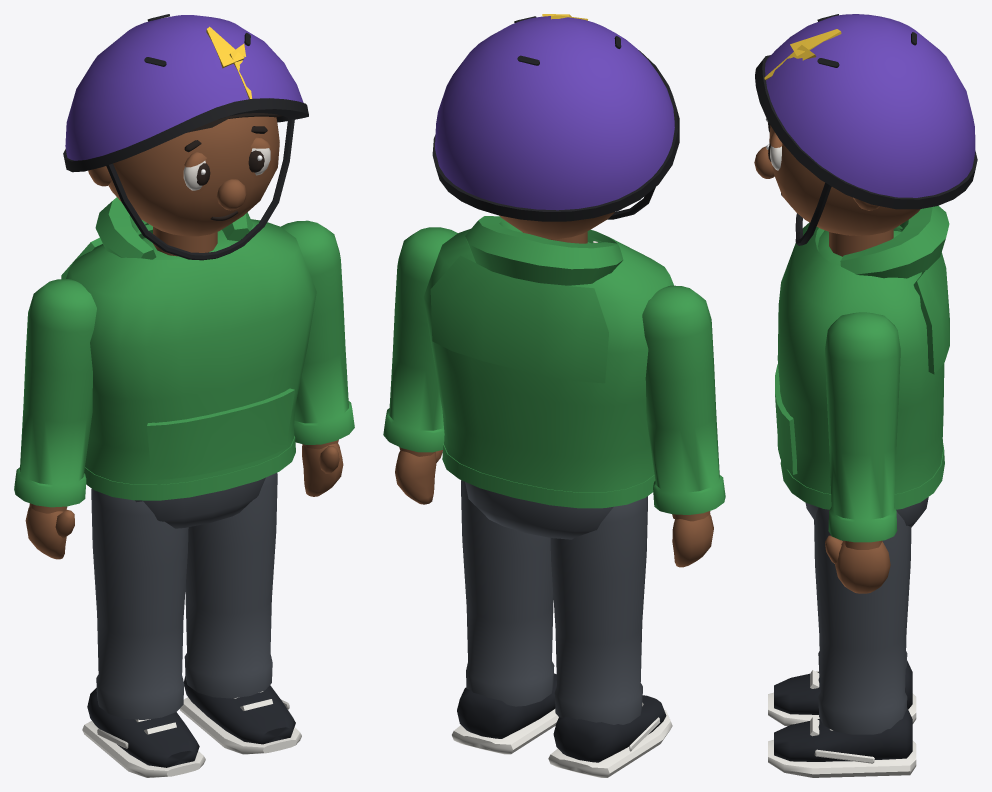
The model's file is Character_Regular_jo.fbx.
The picture shows the model from 3 angles, left to right: view 1: azimuth 30°, elevation 25°; view 2: azimuth 150°, elevation 25°; view 3: azimuth 270°, elevation 25°; orthographic projection.
Visible parts, largest first — view 1: Hoodie, Helmet, LegR, LegL, ArmR, Head, ArmL, HelmetTrim, LegR_Shoe, LegL_Shoe, Hips, HandR (+5 smaller); view 2: Hoodie, Helmet, LegR, LegL, ArmR, ArmL, HelmetTrim, Hips, LegR_Shoe, LegL_Shoe, LegR_Sole, HandL (+3 smaller); view 3: Hoodie, Helmet, ArmL, LegL, Head, HelmetTrim, LegL_Shoe, HandL, LegL_Sole, LegR_Shoe, LegR_Sole, Sticker (+3 smaller).
Boxes of the visible parts, x1=… form: Hoodie: x1=61, y1=197, x2=316, y2=500; Helmet: x1=65, y1=15, x2=303, y2=160; LegR: x1=91, y1=489, x2=188, y2=719; LegL: x1=184, y1=473, x2=277, y2=698; ArmR: x1=14, y1=279, x2=96, y2=507; Head: x1=88, y1=116, x2=279, y2=256; ArmL: x1=280, y1=220, x2=354, y2=444; HelmetTrim: x1=63, y1=14, x2=308, y2=260; LegR_Shoe: x1=87, y1=688, x2=199, y2=767; LegL_Shoe: x1=184, y1=676, x2=295, y2=744; Hips: x1=135, y1=477, x2=265, y2=528; HandR: x1=25, y1=503, x2=74, y2=559; Hoodie: x1=423, y1=216, x2=673, y2=508; Helmet: x1=435, y1=16, x2=674, y2=210; LegR: x1=550, y1=496, x2=647, y2=724; LegL: x1=461, y1=480, x2=554, y2=706; ArmR: x1=642, y1=285, x2=725, y2=514; ArmL: x1=383, y1=227, x2=457, y2=452; HelmetTrim: x1=432, y1=16, x2=679, y2=221; Hips: x1=465, y1=482, x2=613, y2=539; LegR_Shoe: x1=553, y1=695, x2=666, y2=762; LegL_Shoe: x1=457, y1=673, x2=556, y2=738; LegR_Sole: x1=548, y1=702, x2=672, y2=777; HandL: x1=395, y1=447, x2=442, y2=504; Hoodie: x1=775, y1=205, x2=949, y2=509; Helmet: x1=765, y1=14, x2=975, y2=197; ArmL: x1=825, y1=312, x2=900, y2=542; LegL: x1=814, y1=507, x2=911, y2=734; Head: x1=754, y1=125, x2=920, y2=256; HelmetTrim: x1=755, y1=14, x2=977, y2=245; LegL_Shoe: x1=774, y1=707, x2=912, y2=761; HandL: x1=825, y1=535, x2=890, y2=593; LegL_Sole: x1=768, y1=717, x2=916, y2=777; LegR_Shoe: x1=774, y1=660, x2=912, y2=714; LegR_Sole: x1=768, y1=670, x2=916, y2=726; Sticker: x1=764, y1=29, x2=841, y2=79.
Bounding box in the file's own units: 253 × 524 × 148.
